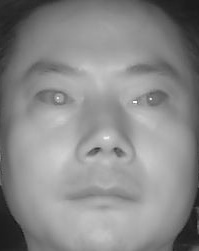eye: (128, 84, 170, 111), (34, 84, 75, 111)
mouth: (64, 174, 137, 218)
